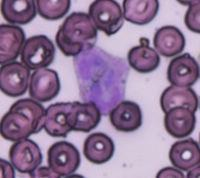N: (75, 44, 129, 114)
